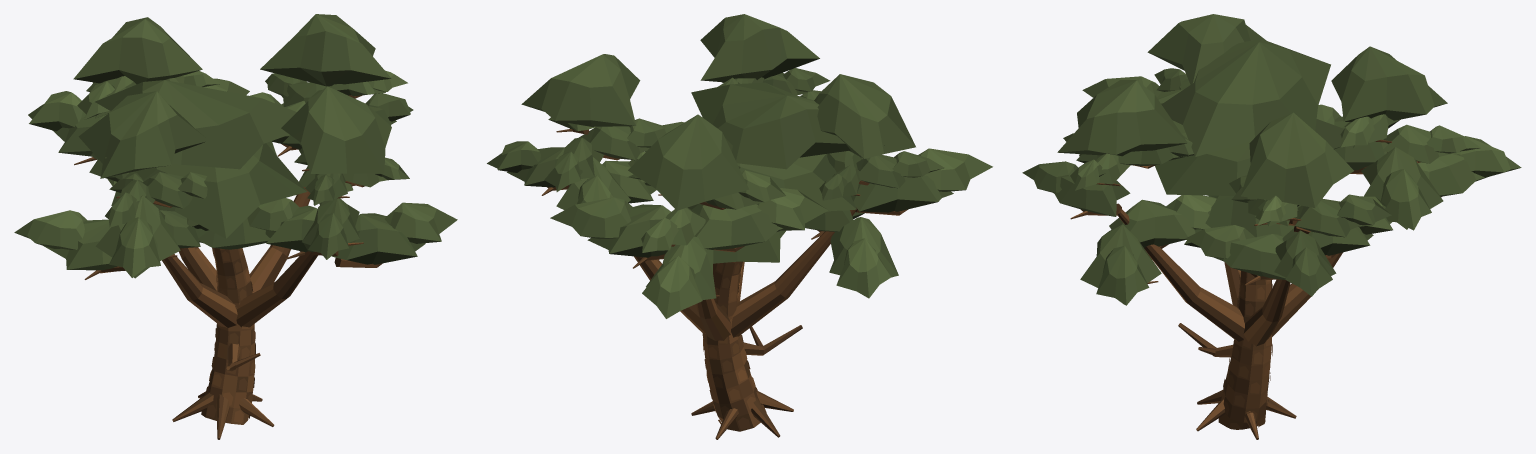
The model's file is pine-09.glb.
3 views of the same model, side by side, from view 1: azimuth 30°, elevation 25°; view 2: azimuth 150°, elevation 25°; view 3: azimuth 270°, elevation 25° (orthographic).
Parts seen in each view (by area): view 1: pine-09; view 2: pine-09; view 3: pine-09.
Boxes of the visible parts, x1,y1,x2,y2 form: pine-09: (14, 14, 457, 439); pine-09: (487, 14, 992, 439); pine-09: (1022, 14, 1521, 439).
Size of the model in its own units: 5.76 by 5 by 6.2.
